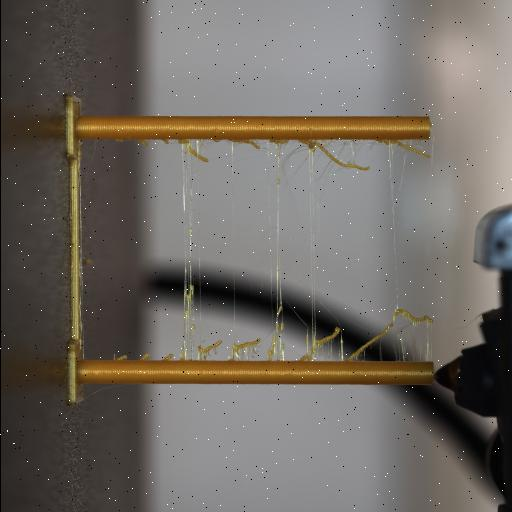stringing: (308, 140, 372, 170), (181, 256, 197, 360), (296, 327, 340, 361), (271, 228, 282, 350), (389, 140, 431, 158), (230, 338, 262, 360), (180, 140, 208, 162), (393, 310, 431, 326), (197, 340, 221, 360), (268, 324, 280, 359), (227, 140, 261, 150), (338, 329, 344, 361), (160, 354, 174, 362), (298, 354, 310, 362), (113, 355, 127, 361), (138, 354, 150, 360), (138, 139, 148, 146), (161, 140, 169, 144), (114, 139, 122, 143), (178, 356, 184, 360)
